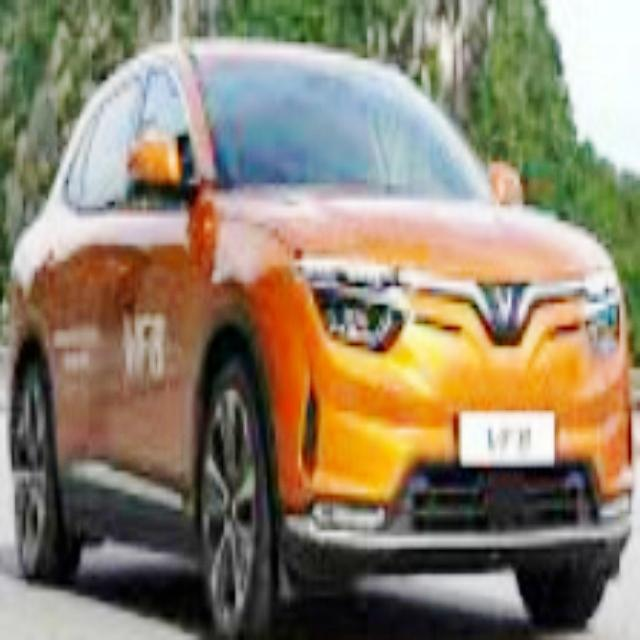Car: (3, 36, 635, 639)
